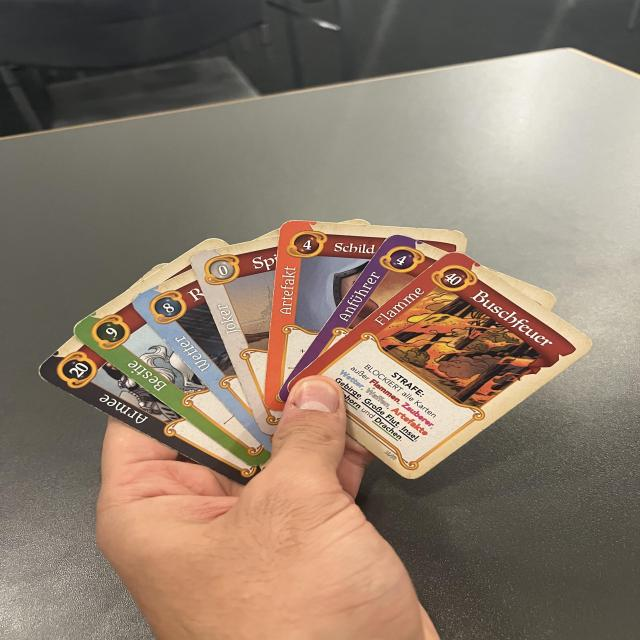Knights: (32, 338, 258, 489)
Mirage: (185, 237, 274, 415)
Rainstorm: (126, 271, 260, 439)
Shield Of Keth: (262, 218, 392, 404)
Unicorn: (67, 296, 268, 466)
Warlord: (286, 231, 447, 380)
Wildfire: (285, 246, 599, 484)
